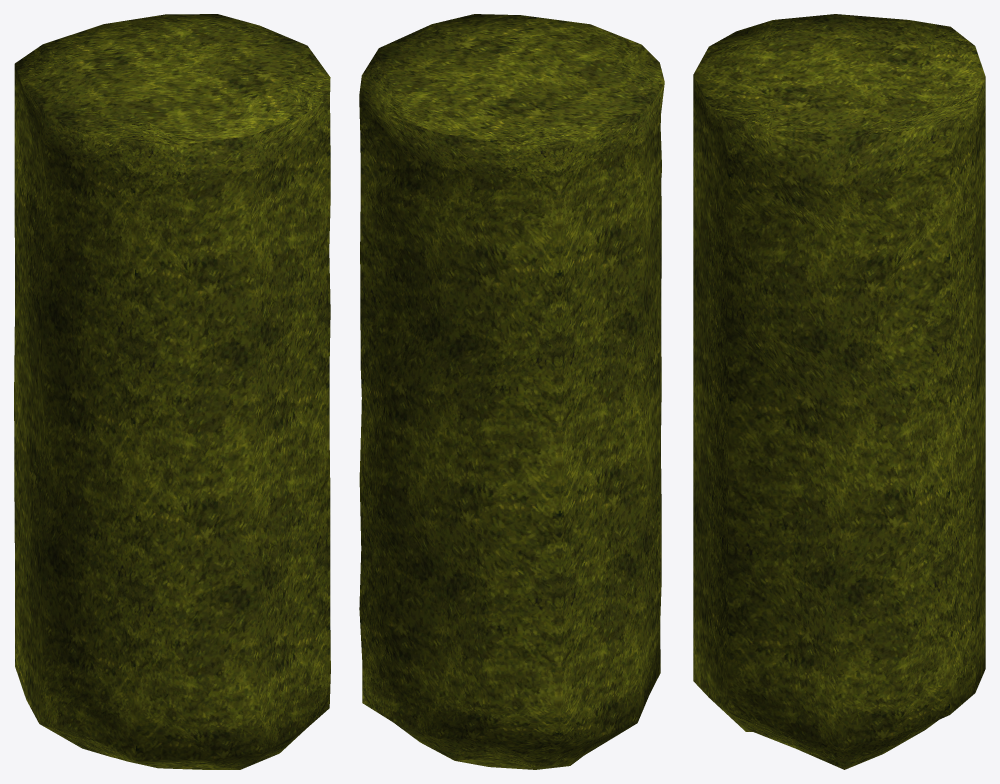
File: INST_TROLLHOLE_CLIFFPLATC.fbx
3 views of the same model, side by side, from view 1: azimuth 30°, elevation 25°; view 2: azimuth 150°, elevation 25°; view 3: azimuth 270°, elevation 25° (orthographic). The views are drawn at different scales.
Parts seen in each view (by area): view 1: INST_TROLLHOLE_CLIFFPLATC; view 2: INST_TROLLHOLE_CLIFFPLATC; view 3: INST_TROLLHOLE_CLIFFPLATC.
Boxes of the visible parts, box(x1,y1,x2,y2) form: INST_TROLLHOLE_CLIFFPLATC: box(14, 14, 330, 769); INST_TROLLHOLE_CLIFFPLATC: box(359, 14, 664, 769); INST_TROLLHOLE_CLIFFPLATC: box(693, 14, 985, 769).
Size of the model in its own units: 30250 by 75046 by 29897.
1 material, 1 textured.
